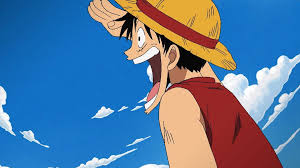Luffy: (118, 1, 240, 112)
